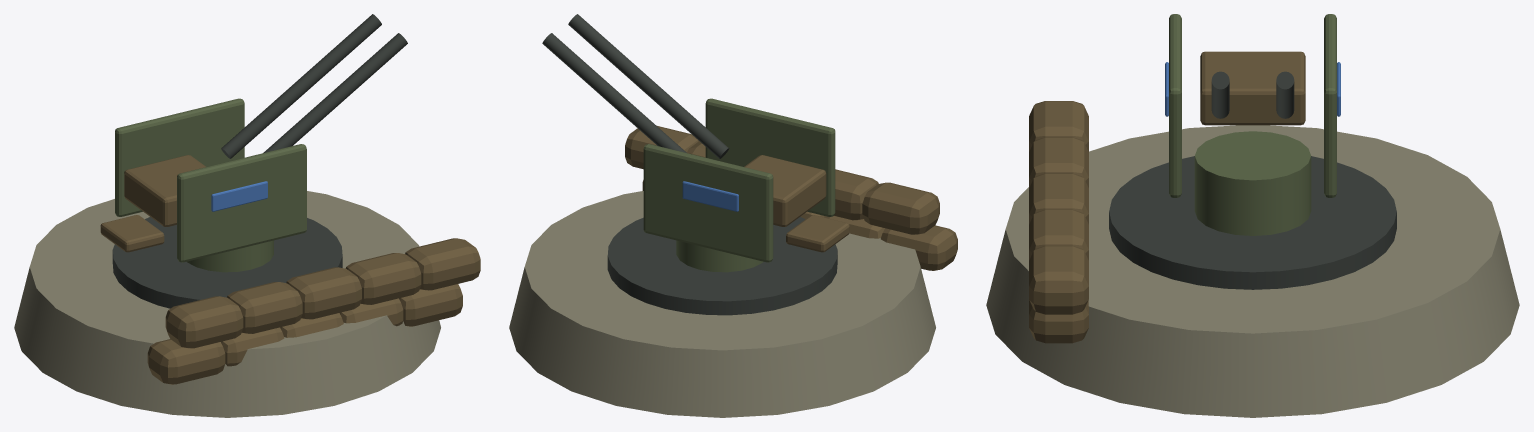
The model's file is prop-weapon-turret.glb.
3 renders of one model, left to right at view 1: azimuth 30°, elevation 25°; view 2: azimuth 150°, elevation 25°; view 3: azimuth 270°, elevation 25°, orthographic. The views are drawn at different scales.
Visible parts, largest first — view 1: Concrete, Canvas, Armor, Steel, TeamColor; view 2: Concrete, Armor, Steel, Canvas, TeamColor; view 3: Concrete, Steel, Canvas, Armor.
Boxes of the visible parts, x1,y1,x2,y2 form: Concrete: (14, 191, 440, 417); Canvas: (100, 155, 480, 384); Armor: (115, 98, 306, 272); Steel: (112, 14, 407, 308); TeamColor: (211, 181, 267, 211); Concrete: (509, 191, 935, 417); Armor: (643, 98, 835, 272); Steel: (542, 14, 837, 315); Canvas: (625, 126, 957, 270); TeamColor: (682, 181, 738, 211); Concrete: (986, 125, 1519, 417); Steel: (1109, 71, 1396, 289); Canvas: (1029, 51, 1305, 343); Armor: (1169, 14, 1336, 235).
Size of the model in its own units: 3.3 by 2.26 by 3.3.
